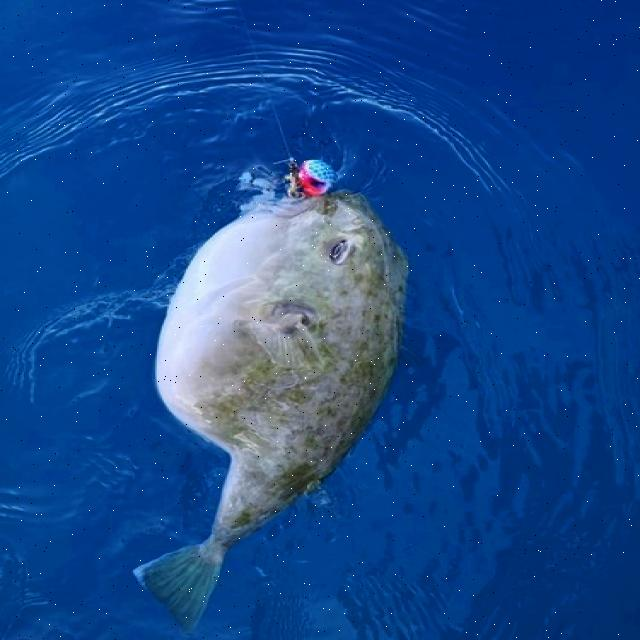Balik: (135, 192, 407, 631)
